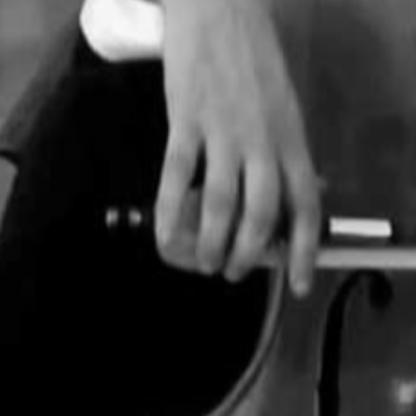good: (143, 75, 342, 305)
